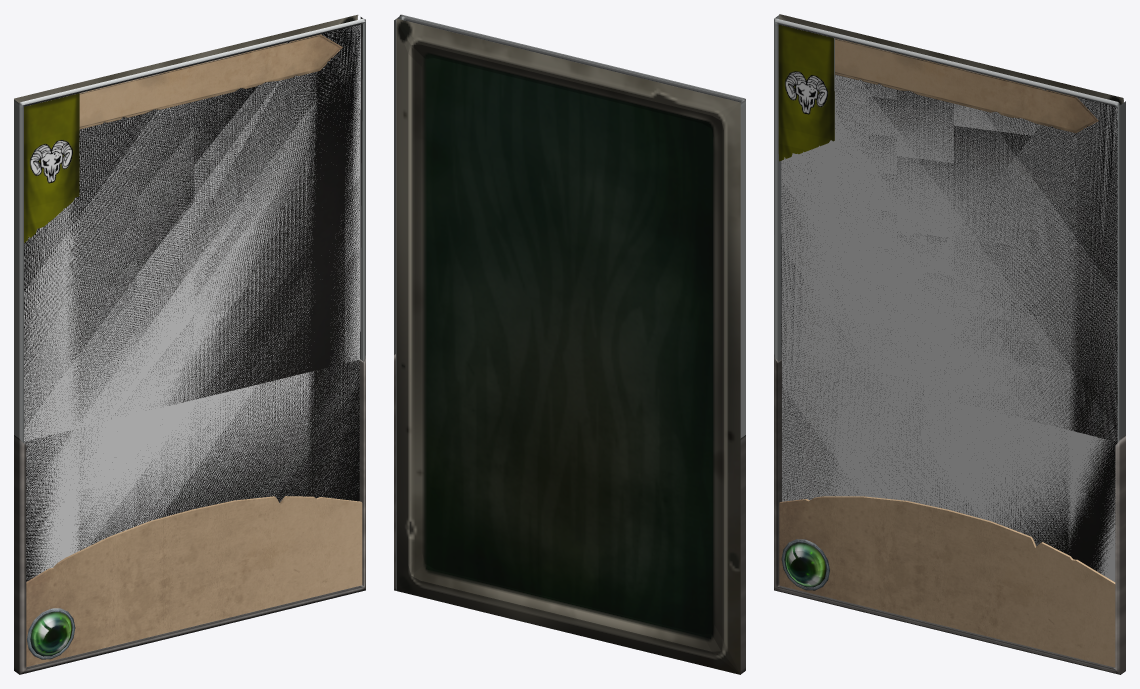
File: Card.fbx
The picture shows the model from 3 angles, left to right: view 1: azimuth 30°, elevation 25°; view 2: azimuth 150°, elevation 25°; view 3: azimuth 330°, elevation 25°; orthographic projection.
Parts seen in each view (by area): view 1: Card, Stencil; view 2: Card; view 3: Stencil, Card.
Boxes of the visible parts, x1,y1,x2,y2 form: Card: (14,14,365,674); Stencil: (24,25,360,581); Card: (394,14,745,674); Stencil: (781,74,1117,581); Card: (774,14,1125,674).
Size of the model in its own units: 618 by 975 by 37.14.
2 materials, 2 textured.
